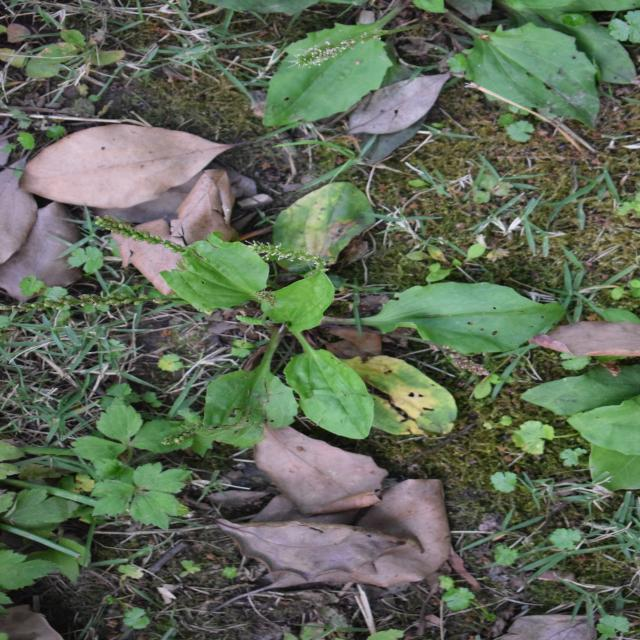plantain: (206, 116, 443, 492)
